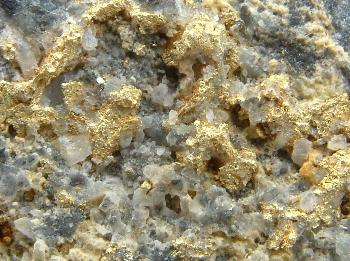gold: (0, 22, 83, 137), (177, 78, 258, 192), (252, 76, 350, 138), (66, 84, 142, 158), (301, 149, 350, 228), (165, 18, 230, 66), (84, 1, 167, 32), (174, 237, 236, 260), (0, 175, 42, 202), (269, 220, 297, 250), (263, 203, 301, 220), (16, 220, 44, 240), (65, 84, 87, 108), (55, 191, 76, 206)
